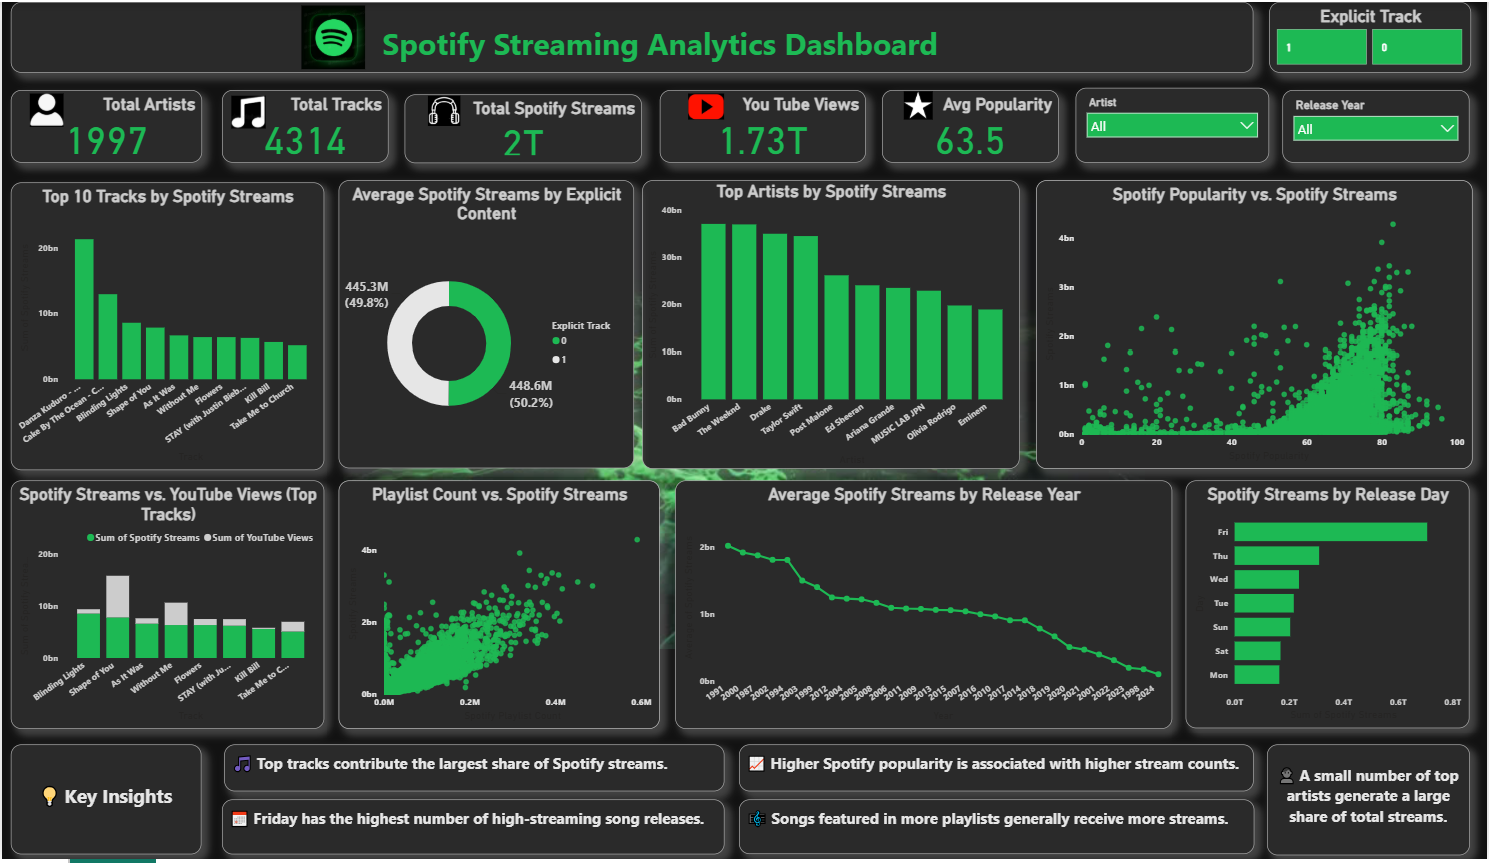

Layout of this report page (visuals, bound fields, positions):
{"tool":"powerbi","page":{"name":"Page 1","canvas":[2100,1210],"ordinal":0},"visuals":[{"type":"clusteredColumnChart","title":"Top 10 Tracks by Spotify Streams","fields":{"Category":["Most Streamed Spotify Songs 2024.Track"],"Y":["Sum(Most Streamed Spotify Songs 2024.Spotify Streams)"]},"box":[13.5,254.1,443.2,405.4],"z":0},{"type":"clusteredColumnChart","title":"Top Artists by Spotify Streams","fields":{"Category":["Most Streamed Spotify Songs 2024.Artist"],"Y":["Sum(Most Streamed Spotify Songs 2024.Spotify Streams)"]},"box":[905.4,253.3,533.6,406.9],"z":1000},{"type":"lineChart","title":"Average Spotify Streams by Release Year","fields":{"Y":["Avg(Most Streamed Spotify Songs 2024.Spotify Streams)"],"Category":["Most Streamed Spotify Songs 2024.Year"]},"box":[951.4,675.7,702.7,351.4],"z":2000},{"type":"scatterChart","title":"Playlist Count vs. Spotify Streams","fields":{"Y":["Most Streamed Spotify Songs 2024.Spotify Streams"],"X":["Most Streamed Spotify Songs 2024.Spotify Playlist Count"]},"box":[475.7,675.7,454.1,351.4],"z":3000},{"type":"scatterChart","title":"Spotify Popularity vs. Spotify Streams","fields":{"X":["Most Streamed Spotify Songs 2024.Spotify Popularity"],"Y":["Most Streamed Spotify Songs 2024.Spotify Streams"]},"box":[1460.6,253.3,617.1,406.9],"z":4000},{"type":"donutChart","title":"Average Spotify Streams by Explicit Content","fields":{"Category":["Most Streamed Spotify Songs 2024.Explicit Track"],"Y":["Avg(Most Streamed Spotify Songs 2024.Spotify Streams)"]},"box":[476.5,252.9,417.6,405.9],"z":5000},{"type":"columnChart","title":"Spotify Streams vs. YouTube Views (Top Tracks)","fields":{"Category":["Most Streamed Spotify Songs 2024.Track"],"Y":["Sum(Most Streamed Spotify Songs 2024.Spotify Streams)","Sum(Most Streamed Spotify Songs 2024.YouTube Views)"]},"box":[13.5,675.7,443.2,351.4],"z":6000},{"type":"textbox","box":[13.5,0,1756.8,100],"z":7000},{"type":"card","title":"Total Artists","fields":{"Values":["Most Streamed Spotify Songs 2024.Total Artists"]},"box":[13.5,124.3,270.3,102.7],"z":8000},{"type":"card","title":"Total Tracks","fields":{"Values":["Most Streamed Spotify Songs 2024.Total Tracks"]},"box":[311.8,123.5,235.3,102.9],"z":9000},{"type":"card","title":"   Total Spotify Streams","fields":{"Values":["Most Streamed Spotify Songs 2024.Total Spotify Streams"]},"box":[570.6,129.4,335.3,97.1],"z":10000},{"type":"card","title":"You Tube Views","fields":{"Values":["Most Streamed Spotify Songs 2024.Total YouTube Views"]},"box":[929.4,123.5,291.2,102.9],"z":11000},{"type":"card","title":"Avg Popularity","fields":{"Values":["Most Streamed Spotify Songs 2024.Average Spotify Popularity"]},"box":[1244.1,123.5,250,102.9],"z":12000},{"type":"clusteredBarChart","title":"Spotify Streams by Release Day","fields":{"Category":["Most Streamed Spotify Songs 2024.Day"],"Y":["Sum(Most Streamed Spotify Songs 2024.Spotify Streams)"]},"box":[1673.5,676.4,401.5,350.3],"z":13000},{"type":"image","box":[388.2,0,158.8,100],"z":14000},{"type":"image","box":[32,125.3,64,57.3],"z":15000},{"type":"image","box":[310.9,126.6,75,56.2],"z":16000},{"type":"image","box":[597.1,123.5,55.9,58.8],"z":17000},{"type":"image","box":[1270.6,120.6,52.9,50],"z":18000},{"type":"image","box":[950,125,93.8,46.9],"z":19000},{"type":"advancedSlicerVisual","title":" Explicit Track ","fields":{"Values":["Most Streamed Spotify Songs 2024.Explicit Track"]},"box":[1791.2,0,285.3,100],"z":20000},{"type":"slicer","fields":{"Values":["Most Streamed Spotify Songs 2024.Artist"]},"box":[1517.6,120.6,273.5,105.9],"z":21000},{"type":"slicer","fields":{"Values":["Most Streamed Spotify Songs 2024.Year"]},"box":[1811.8,123.5,264.7,102.9],"z":22000},{"type":"textbox","box":[13.9,1047.2,269.4,155.6],"z":23000},{"type":"textbox","box":[313.2,1047.1,707.4,66.2],"z":23001},{"type":"textbox","box":[1042.6,1047.1,727.9,66.2],"z":23002},{"type":"textbox","box":[1042.9,1125.7,728.6,77.1],"z":23003},{"type":"textbox","box":[1790,1046.7,286.7,156.7],"z":23004},{"type":"textbox","box":[310.3,1125,710.3,77.9],"z":23005}]}

Visuals, with their boxes in screenshot pixels (x1, y1, x2, y2), scaled from the page's 2100x1210 canvas onto the 1489x863 screenshot:
"Top 10 Tracks by Spotify Streams" clusteredColumnChart: <box>10,181,324,470</box>
"Top Artists by Spotify Streams" clusteredColumnChart: <box>642,181,1020,471</box>
"Average Spotify Streams by Release Year" lineChart: <box>675,482,1173,733</box>
"Playlist Count vs. Spotify Streams" scatterChart: <box>337,482,659,733</box>
"Spotify Popularity vs. Spotify Streams" scatterChart: <box>1036,181,1473,471</box>
"Average Spotify Streams by Explicit Content" donutChart: <box>338,180,634,470</box>
"Spotify Streams vs. YouTube Views (Top Tracks)" columnChart: <box>10,482,324,733</box>
textbox: <box>10,0,1255,71</box>
"Total Artists" card: <box>10,89,201,162</box>
"Total Tracks" card: <box>221,88,388,161</box>
"   Total Spotify Streams" card: <box>405,92,642,162</box>
"You Tube Views" card: <box>659,88,865,161</box>
"Avg Popularity" card: <box>882,88,1059,161</box>
"Spotify Streams by Release Day" clusteredBarChart: <box>1187,482,1471,732</box>
image: <box>275,0,388,71</box>
image: <box>23,89,68,130</box>
image: <box>220,90,274,130</box>
image: <box>423,88,463,130</box>
image: <box>901,86,938,122</box>
image: <box>674,89,740,123</box>
" Explicit Track " advancedSlicerVisual: <box>1270,0,1472,71</box>
slicer - Most Streamed Spotify Songs 2024.Artist: <box>1076,86,1270,162</box>
slicer - Most Streamed Spotify Songs 2024.Year: <box>1285,88,1472,161</box>
textbox: <box>10,747,201,858</box>
textbox: <box>222,747,724,794</box>
textbox: <box>739,747,1255,794</box>
textbox: <box>739,803,1256,858</box>
textbox: <box>1269,747,1472,858</box>
textbox: <box>220,802,724,858</box>
